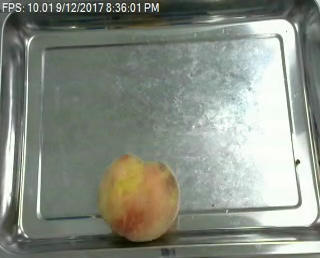Peach: (97, 155, 180, 242)
